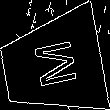M_W: (26, 38, 79, 93)
